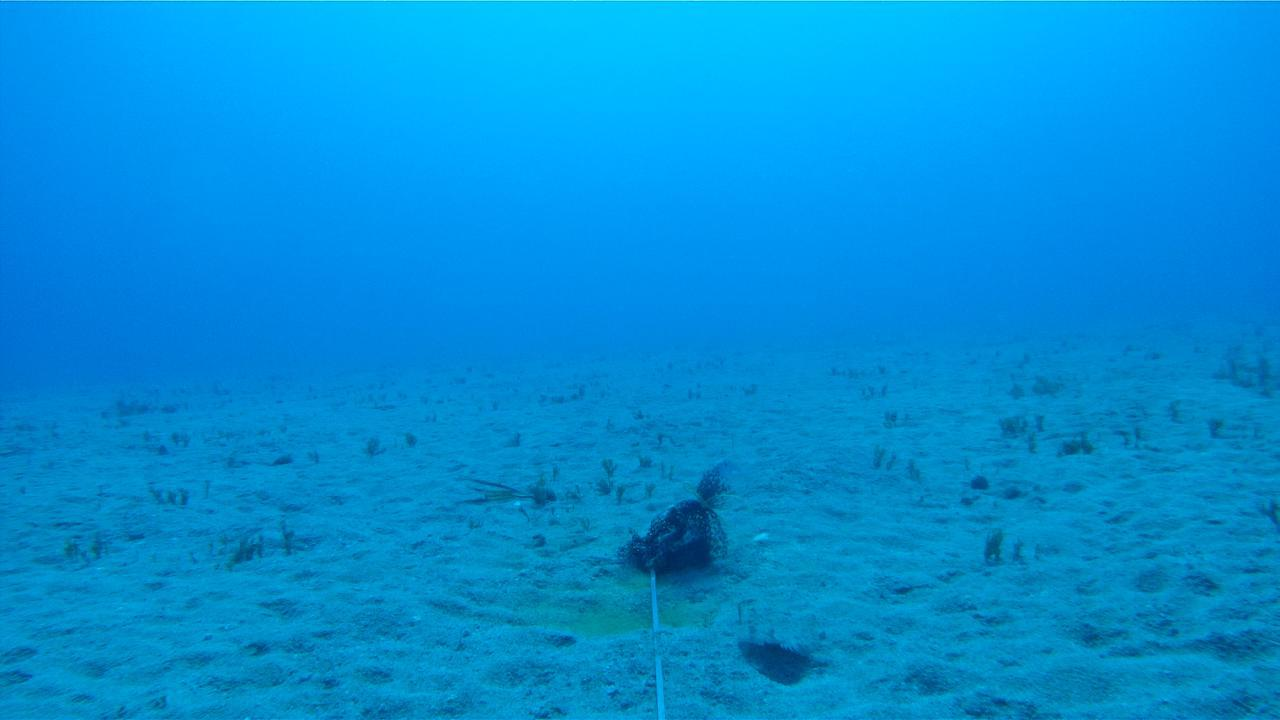bothus: (732, 612, 826, 665)
